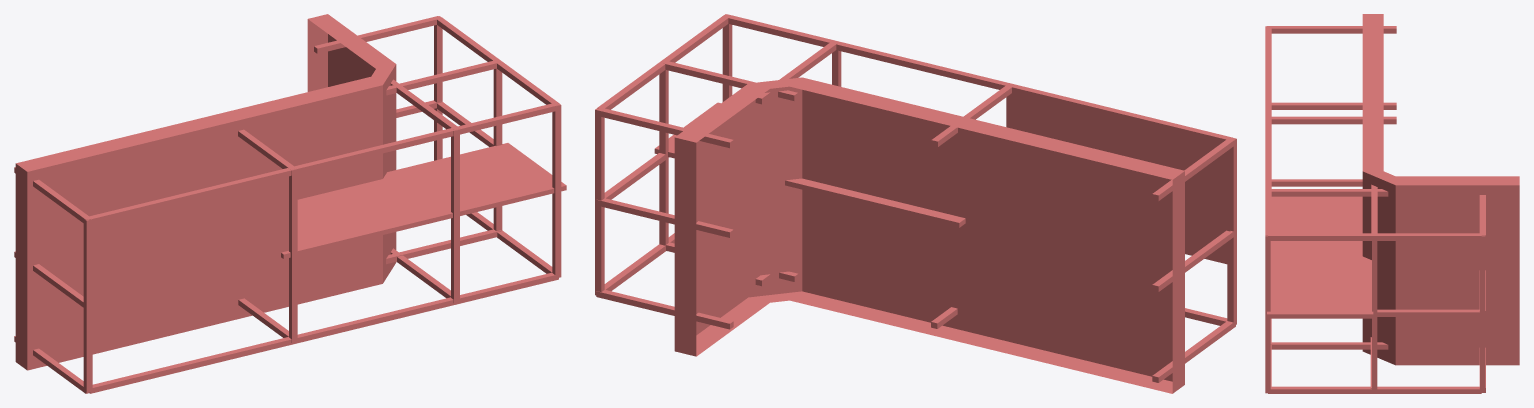
The model's file is ScaffoldGroup_Long_Collider.fbx.
3 renders of one model, left to right at view 1: azimuth 30°, elevation 25°; view 2: azimuth 150°, elevation 25°; view 3: azimuth 270°, elevation 25°, orthographic. The views are drawn at different scales.
Visible parts, largest first — view 1: ScaffoldGroup_Long_Collider; view 2: ScaffoldGroup_Long_Collider; view 3: ScaffoldGroup_Long_Collider.
Part boxes in pixels (left/top/right/bottom): ScaffoldGroup_Long_Collider: left=14, top=14, right=566, bottom=393; ScaffoldGroup_Long_Collider: left=595, top=14, right=1236, bottom=393; ScaffoldGroup_Long_Collider: left=1265, top=14, right=1519, bottom=393.
Size of the model in its own units: 24.08 by 9.39 by 12.04.
